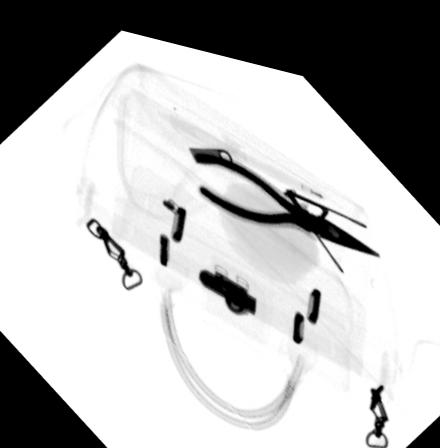Pliers: (192, 139, 380, 239)
